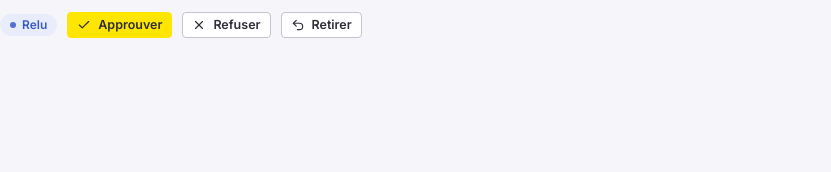
Test: transitions et exports › le refus exige un motif
Later steps or results of the test are not shown.
Click the button "Refuser" at (226, 25), box [182,12,270,38]
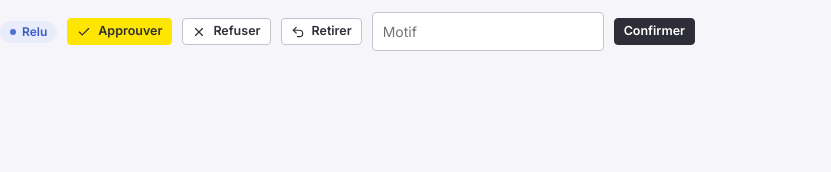
Click the button "Confirmer" at (654, 32), box [614,18,695,45]
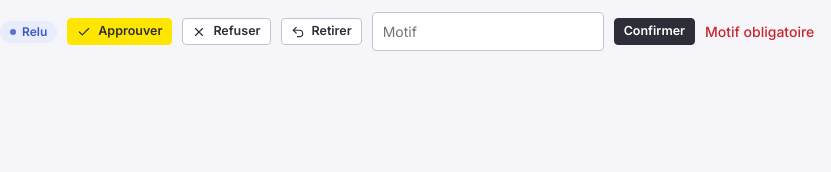
Expected: the message shows "Motif", [705,23,814,40]
